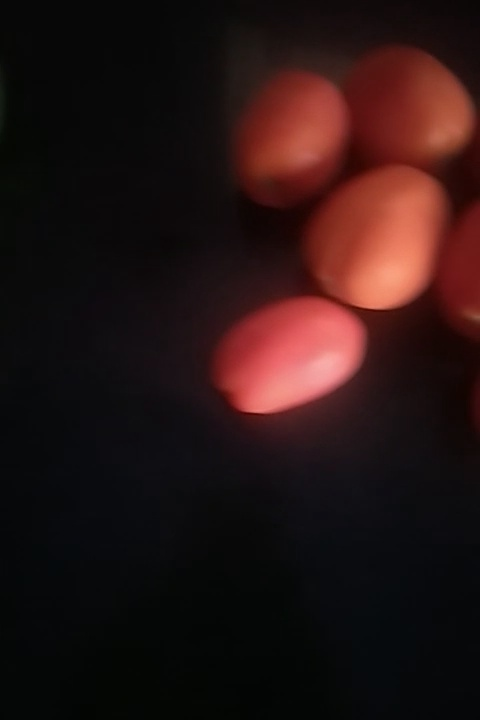tomato: (209, 280, 385, 419), (301, 161, 446, 313), (341, 40, 473, 190), (230, 76, 351, 203), (430, 199, 480, 330)
